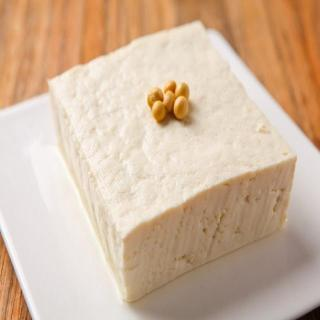Tahu: (41, 29, 320, 286)
